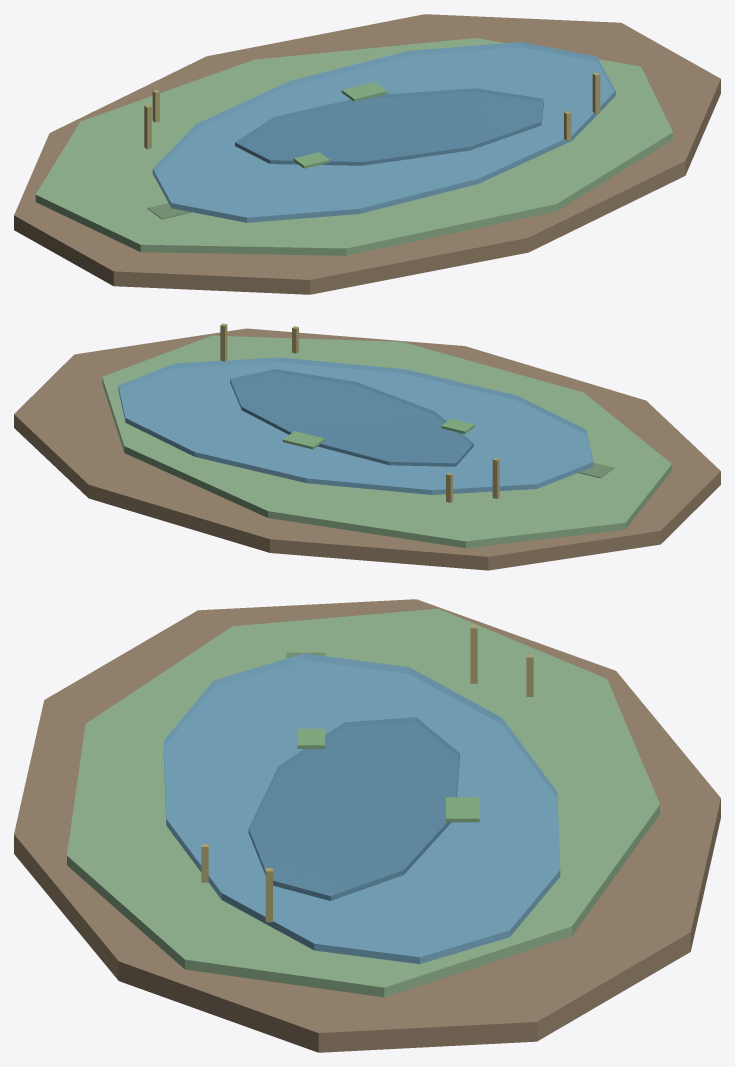
File: lake.glb
3 views of the same model, one above another, from view 1: azimuth 30°, elevation 25°; view 2: azimuth 150°, elevation 25°; view 3: azimuth 270°, elevation 25° (orthographic). The views are drawn at different scales.
Visible parts, largest first — view 1: lake_root; view 2: lake_root; view 3: lake_root.
Boxes of the visible parts, x1,y1,x2,y2 form: lake_root: (14, 14, 720, 294); lake_root: (14, 323, 720, 570); lake_root: (14, 599, 720, 1052).
Size of the model in its own units: 8 by 0.8 by 5.51.
